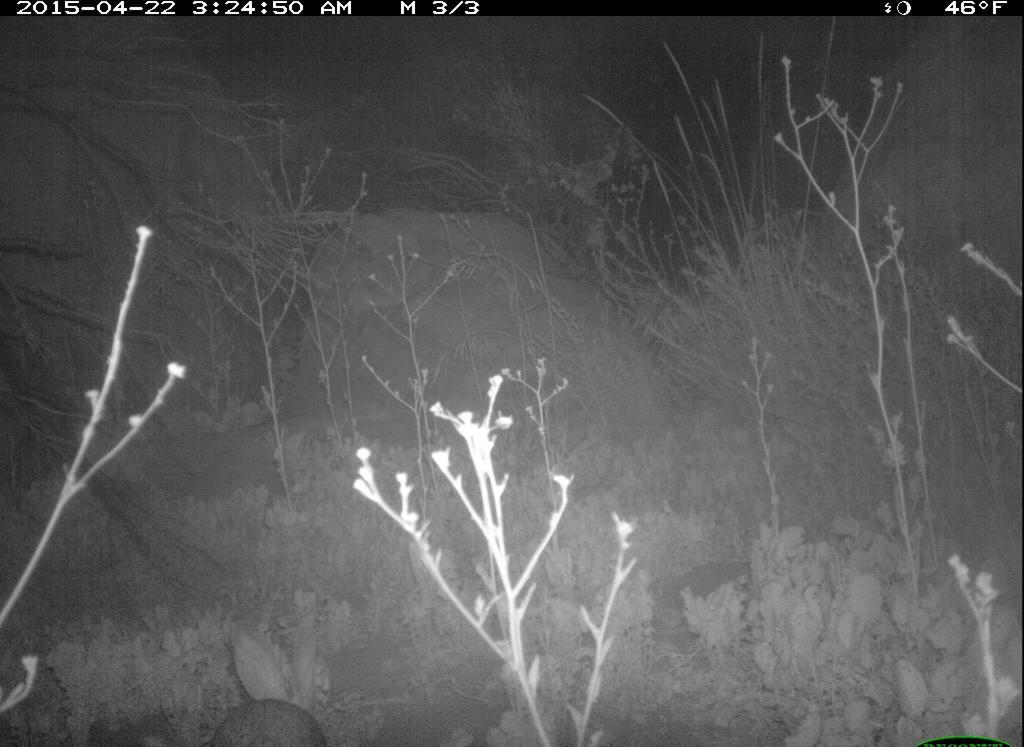rabbit: (203, 617, 335, 747)
